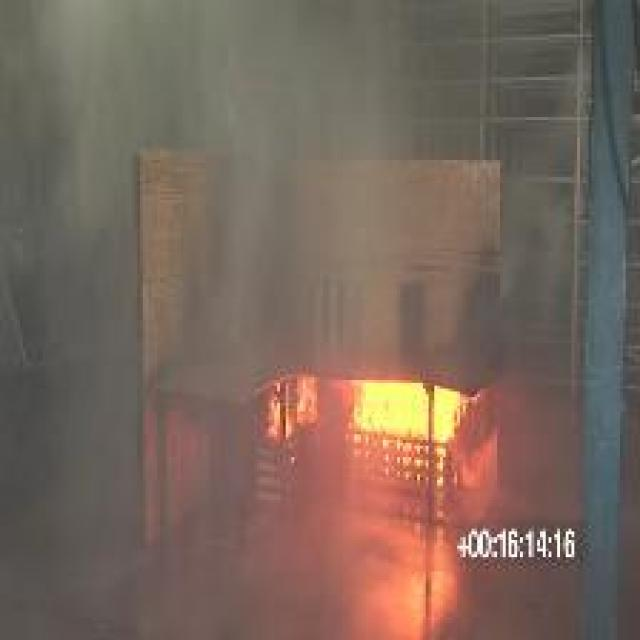fire: (248, 354, 480, 458)
